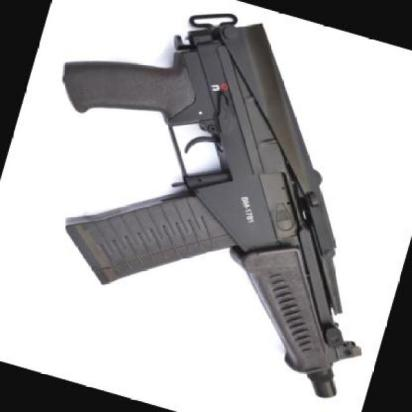Gun: (0, 0, 412, 393)
